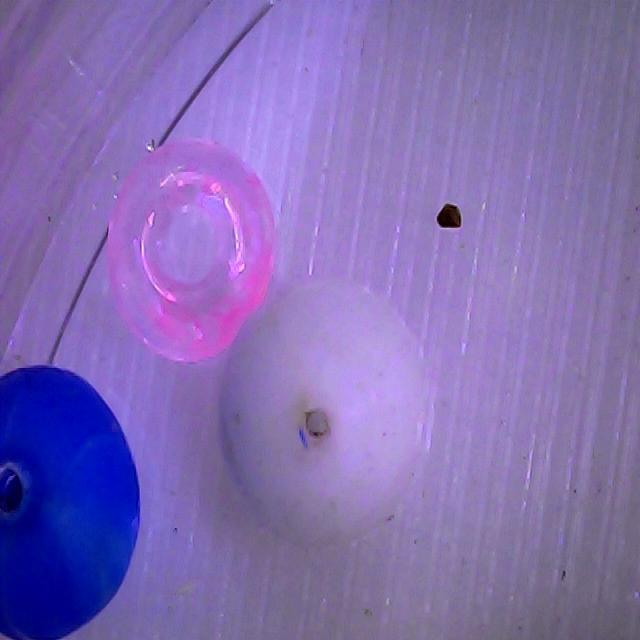beads: (217, 279, 437, 548), (103, 135, 279, 365), (0, 369, 139, 640)
